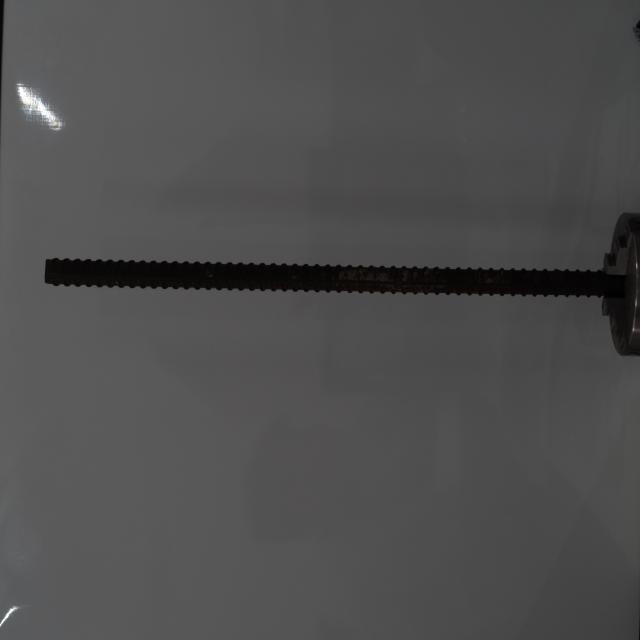ribbed bar: (43, 254, 602, 299)
